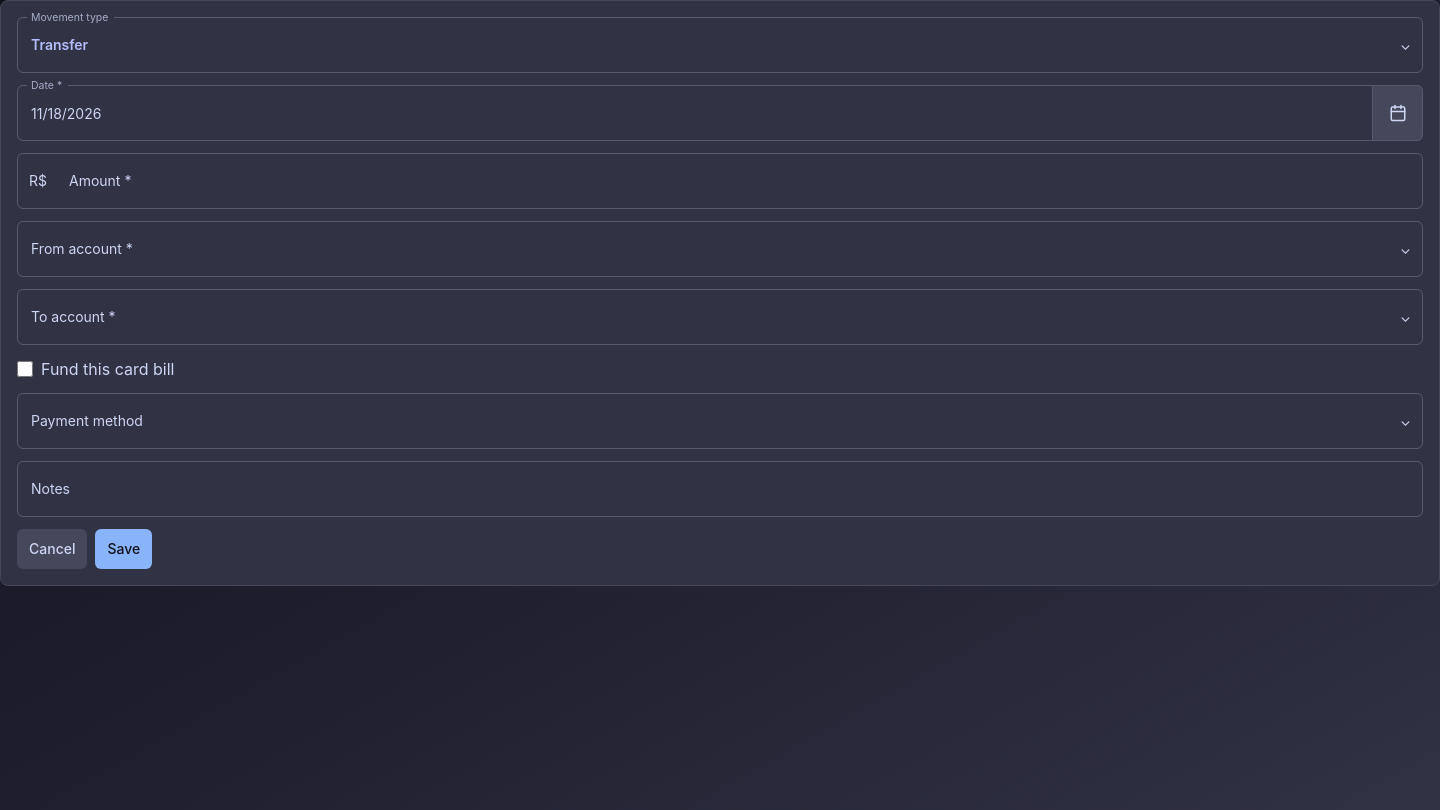
Test case: shows only the required movement fields in en
Expected: the dropdown labelled "From account" is shown, 17,221 -> 1423,277
Expected: the dropdown labelled "To account" is shown, 17,289 -> 1423,345
Select "Card bill payment" in the dropdown labelled "Movement type" at (720, 45), box 17,17 -> 1423,73
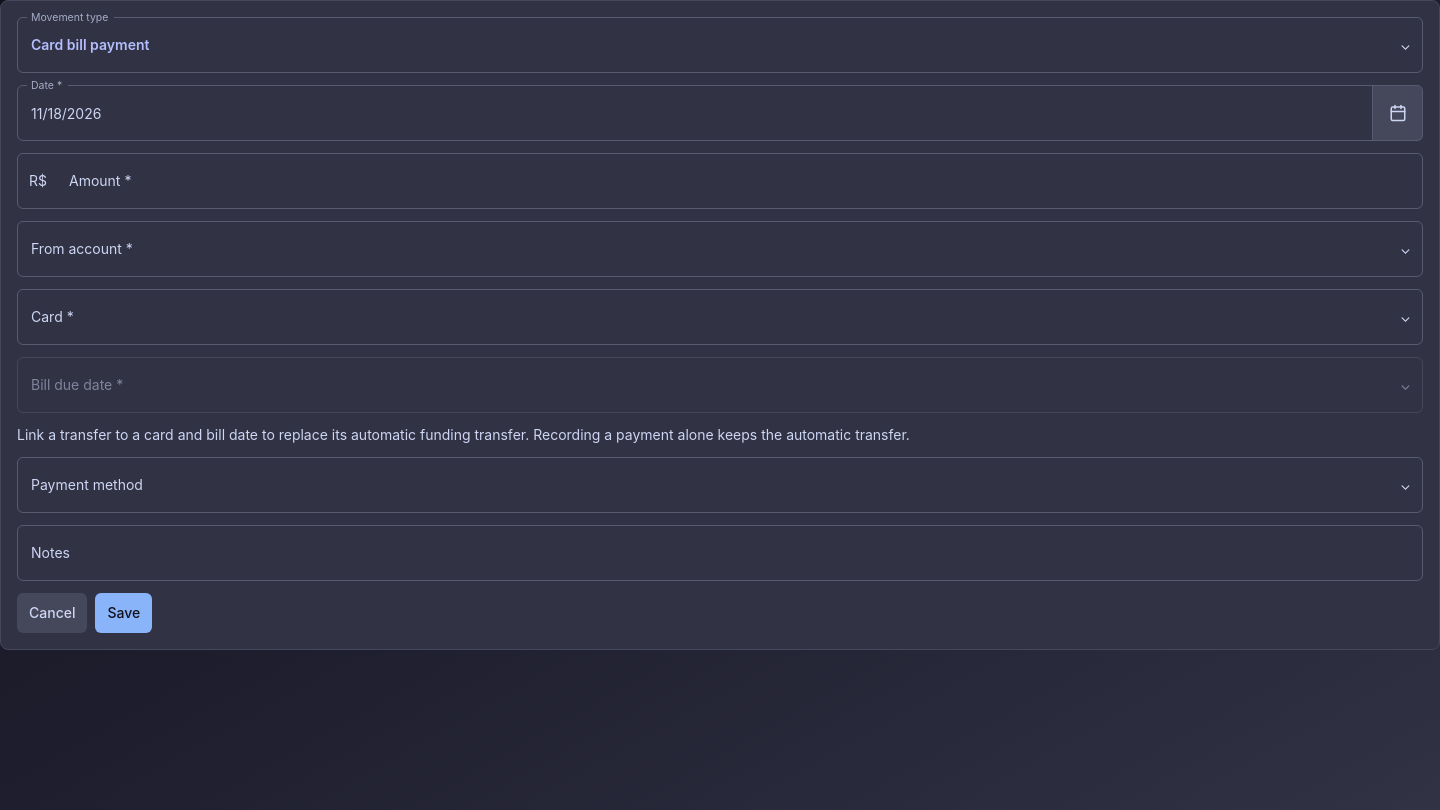
Expected: the dropdown labelled "Card" is shown, 17,289 -> 1423,345
Expected: the dropdown labelled "Bill due date" is shown, 17,357 -> 1423,413
Expected: the label labelled "To account" is gone
Select "Investment" in the dropdown labelled "Movement type" at (720, 45), box 17,17 -> 1423,73
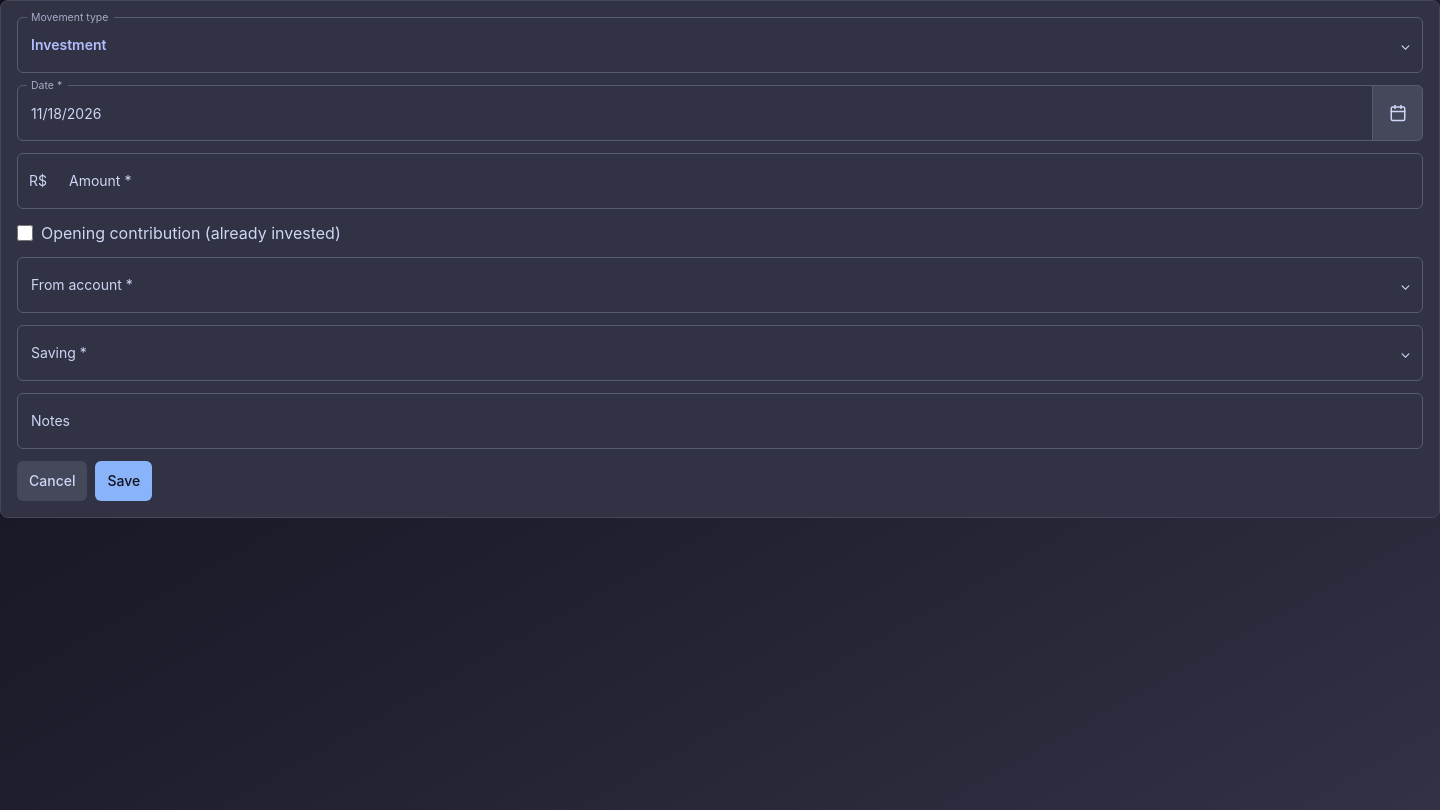
Expected: the dropdown labelled "From account" is shown, 17,257 -> 1423,313
Expected: the dropdown labelled "Saving" is shown, 17,325 -> 1423,381
Expected: the label labelled "Bill due date" is gone
Click the checkbox labelled "Opening contribution (already invested)" at (25, 233), box 17,225 -> 33,241
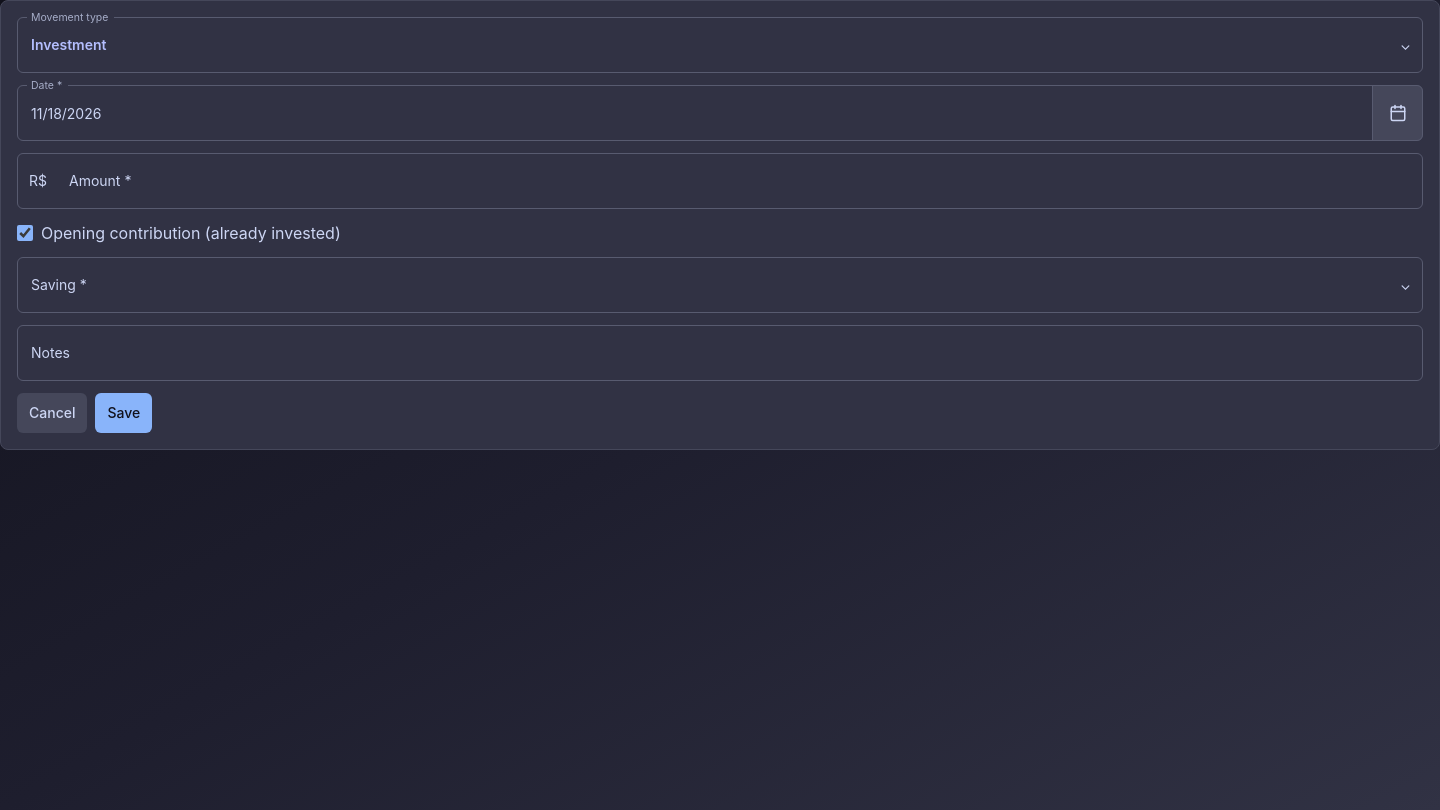
Expected: the label labelled "From account" is gone
Select "Redemption" in the dropdown labelled "Movement type" at (720, 45), box 17,17 -> 1423,73
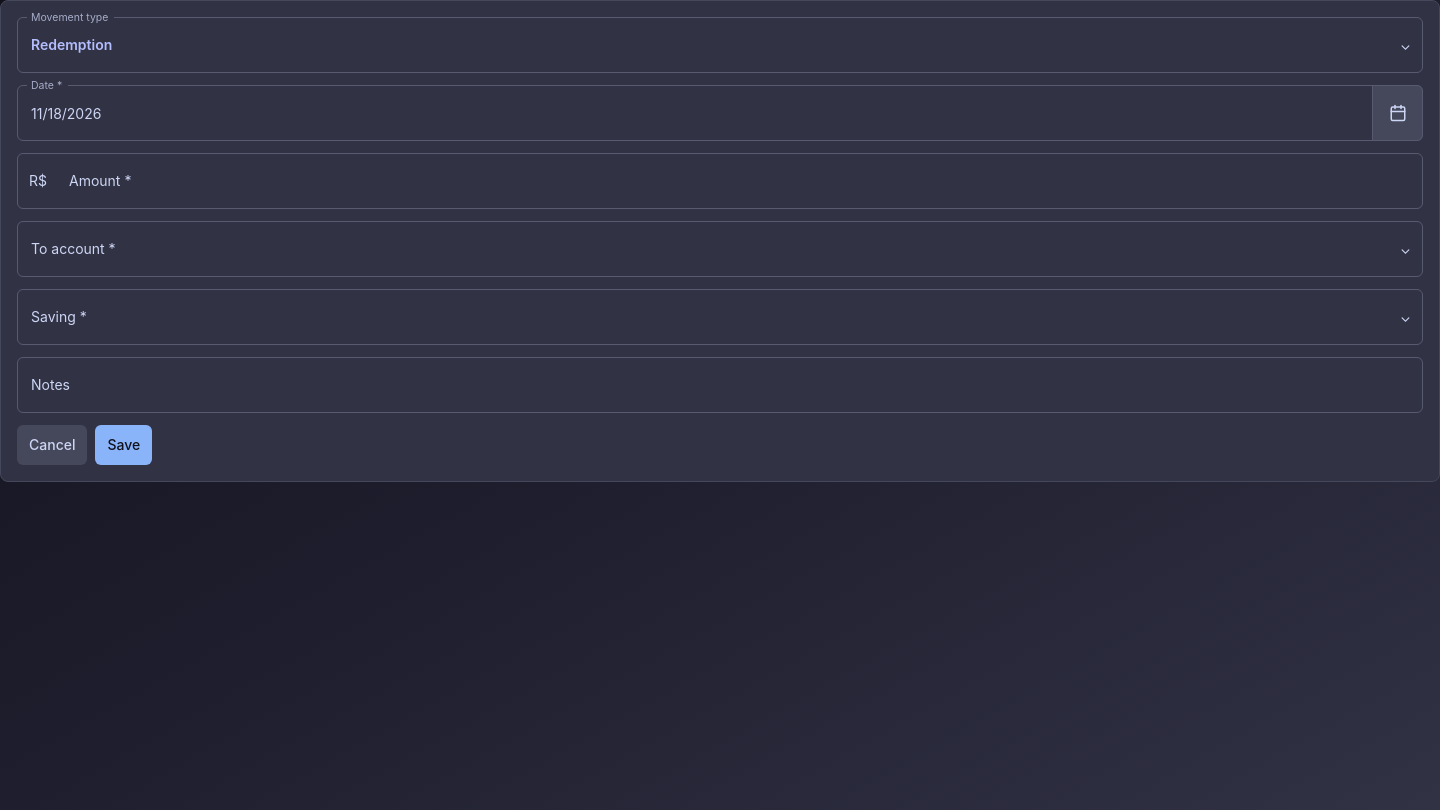
Expected: the label labelled "From account" is not shown
Expected: the dropdown labelled "To account" is shown, 17,221 -> 1423,277
Expected: the label labelled "Opening contribution (already invested)" is gone
